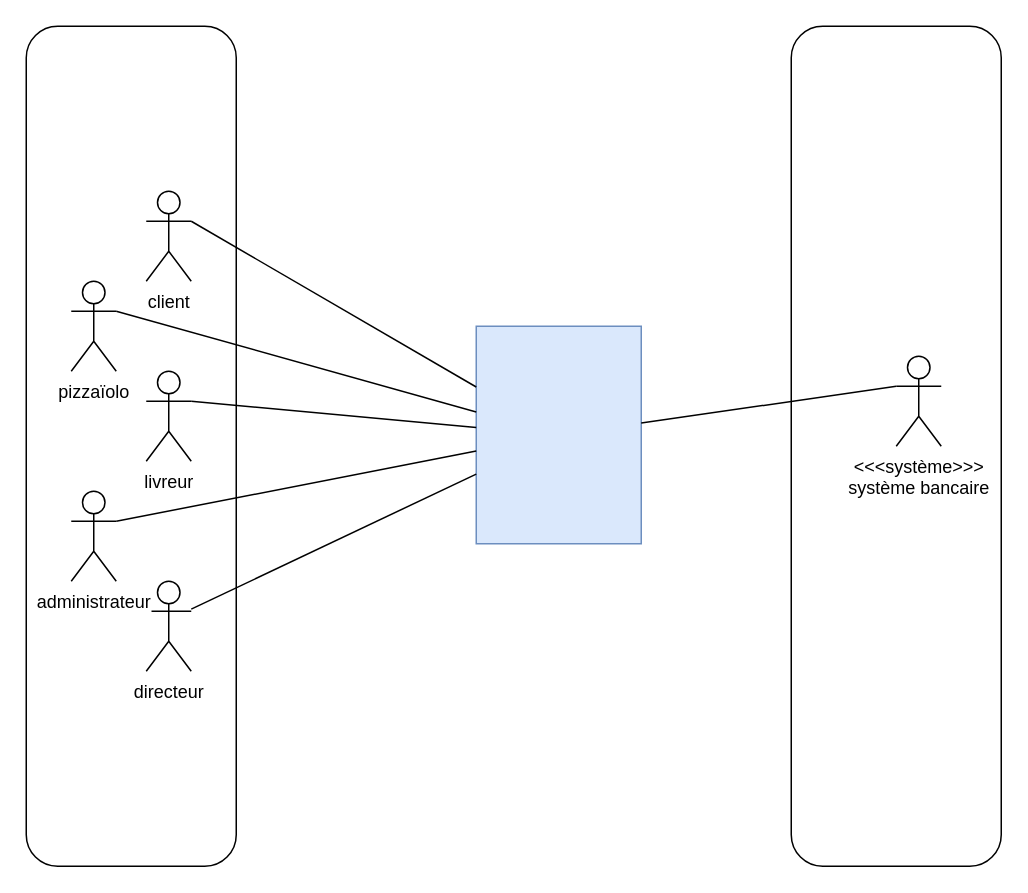
This 1028x893 diagram has some shape labels left out. Each missing label, with the box of its shape:
acteurs principaux: (25, 25, 236, 866)
acteurs secondaires: (790, 25, 1001, 866)
système: (475, 325, 641, 544)
